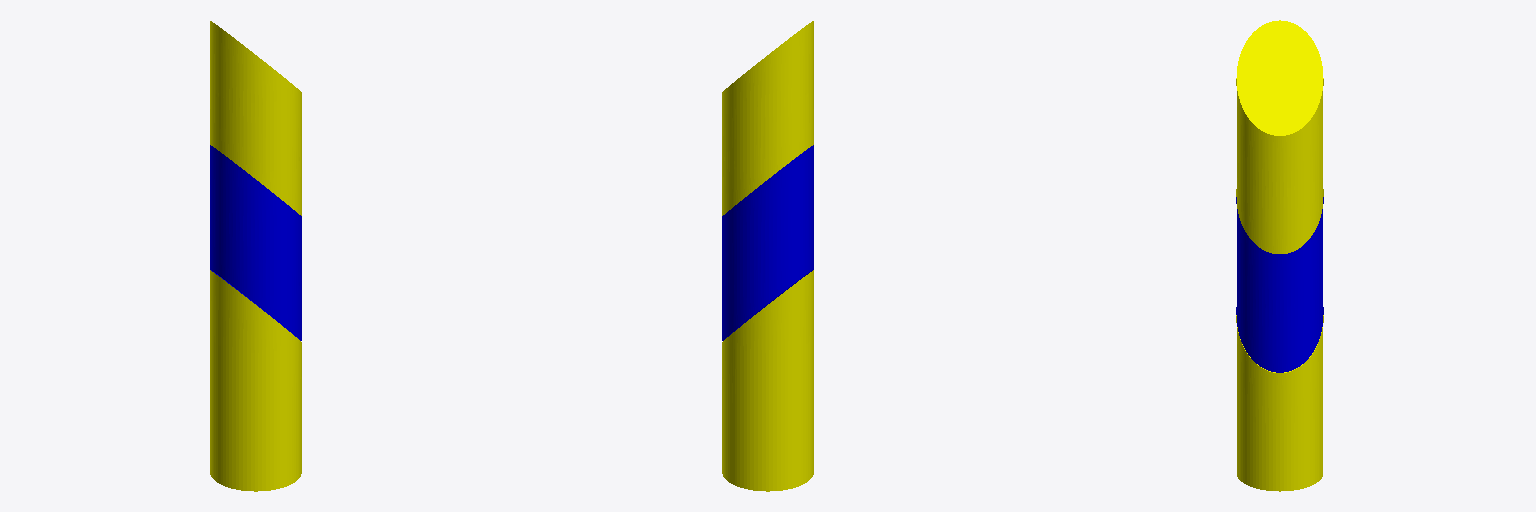
URDF robot description (homer):
<?xml version="1.0"?>
<!-- Kommentar -->

<robot name="homer">
	<link name="world"/>

  	<joint name="base_joint" type="fixed">
    		<parent link="world"/>
    		<child link="base_link"/>
    		<origin xyz="0 0 0" rpy="0 0 0" />
  	</joint>

	<link name="base_link">
   		<inertial>
      			<origin xyz="0.0 0.0 0.0" rpy="0 0 0"/>
      			<mass value="0.0"/>
      			<inertia ixx="0.0" ixy="0.0" ixz="0.0" iyy="0.0" iyz="0.0" izz="0.0"/>
    		</inertial>
		
		<visual>
			<geometry>
				<mesh filename = "package://elissa3_homer/homer_parts/Base_End.stl" scale="0.01 0.01 0.01"/> <!--scale from mm to m should be 0.001--> <!--scale="0.01 0.01 0.01"--> 
			</geometry>
				
			<!--origin - the reference frame of the visual element with respect to the reference frame of the link -->
			<!--rpy -r is roll, p-pitch and y-yaw (Eulerwinkel) -->
			<!--xyz - x,y,z -offsets -->
			<origin xyz="0 0 0" rpy="0 0 0" />
			<material name="yellow">
				<color rgba="1 1 0 1"/>
			</material>
		</visual>
		
    		<collision>
      			<origin xyz="0.0 0.0 0.0" rpy="0 0 0"/>
      			<geometry>
        			<mesh filename = "package://elissa3_homer/homer_parts/Base_End.stl" scale="0.01 0.01 0.01"/>
      			</geometry>
    		</collision>	
	</link>
	
	<joint name="joint_1" type="revolute"> <!-- maybe continous -->
		<parent link="base_link"/>
		<child link="first_link"/>
		<origin xyz="0 0 0.4" rpy="0 0.7854 0"/>
		<axis xyz="0 0 1"/>
		<limit effort="300" velocity="2.0" lower="-6" upper="6"/>
		<dynamics damping="0.1"/>
	</joint>
	
	<link name="first_link">
	
	   	<inertial>
      			<origin xyz="0.07 0 -0.069282" rpy="0 -0.7854 0" />
      			<mass value="0.0"/>
      			<inertia ixx="0.0" ixy="0.0" ixz="0.0" iyy="0.0" iyz="0.0" izz="0.0"/>
    		</inertial>
    		
		<visual>
			<geometry>
				<mesh filename = "package://elissa3_homer/homer_parts/Mid.stl" scale="0.01 0.01 0.01"/> <!--scale="0.01 0.01 0.01"--> 
			</geometry>
			<origin xyz="0.07 0 -0.069282" rpy="0 -0.7854 0" />
			<material name="blue">
				<color rgba="0 0 1 1"/>
			</material>
		</visual>
		<collision>
      			<origin xyz="0.07 0 -0.069282" rpy="0 -0.7854 0" />
      			<geometry>
        			<mesh filename = "package://elissa3_homer/homer_parts/Mid.stl" scale="0.01 0.01 0.01"/> <!--scale="0.01 0.01 0.01"-->
      			</geometry>
    		</collision>
	</link>
	
	<joint name="joint_2" type="revolute"> <!-- maybe continous -->
		<parent link="first_link"/>
		<child link="second_link"/>
		<origin xyz="-0.2121 0 0.2121" rpy="0 0 0"/>
		<axis xyz="0 0 1"/>
		<limit effort="300" velocity="2.0" lower="-6" upper="6"/>
		<dynamics damping="0.1"/>
	</joint>
	
	<link name="second_link">
	
		<inertial>
      			<origin xyz="0.07 0 -0.069282" rpy="0 -0.7854 0" />
      			<mass value="0.0"/>
      			<inertia ixx="0.0" ixy="0.0" ixz="0.0" iyy="0.0" iyz="0.0" izz="0.0"/>
    		</inertial>
		<visual>
			<geometry>
				<mesh filename = "package://elissa3_homer/homer_parts/Mid.stl" scale="0.01 0.01 0.01"/> <!--scale="0.01 0.01 0.01"--> 
			</geometry>
			<origin xyz="0.07 0 -0.069282" rpy="0 -0.7854 0" />
			<material name="yellow">
				<color rgba="1 1 0 1"/>
			</material>
		</visual>
		<collision>
      			<origin xyz="0.07 0 -0.069282" rpy="0 -0.7854 0" />
      			<geometry>
        			<mesh filename = "package://elissa3_homer/homer_parts/Mid.stl" scale="0.01 0.01 0.01"/> <!--scale="0.01 0.01 0.01"-->
      			</geometry>
    		</collision>
	</link>
	
	<transmission name="trans_1">
		<type> transmission_interface/SimpleTransmission</type>
		<joint name="joint_1">
			<hardwareInterface>hardware_interface/PositionJointInterface</hardwareInterface>
		</joint>
		<actuator name ="base_link_motor">"
			<hardwareInterface>hardware_interface/PositionJointInterface</hardwareInterface>
			<mechanicalReduction>1</mechanicalReduction>
		</actuator>
	</transmission>
	
		<transmission name="trans_2">
		<type> transmission_interface/SimpleTransmission</type>
		<joint name="joint_2">
			<hardwareInterface>hardware_interface/PositionJointInterface</hardwareInterface>
		</joint>
		<actuator name ="base_link_motor">"
			<hardwareInterface>hardware_interface/PositionJointInterface</hardwareInterface>
			<mechanicalReduction>1</mechanicalReduction>
		</actuator>
	</transmission>
		
	<gazebo>
		<plugin name="control" filename = "libgazebo_ros_control.so">
			<robotNamespace>/</robotNamespace>
		</plugin>
	</gazebo>
	
	<gazebo reference="base_link">
		<selfCollide>true</selfCollide>
	</gazebo>
	
	<gazebo reference="first_link">
		<selfCollide>true</selfCollide>
	</gazebo>
	
	<gazebo reference="second_link">
		<selfCollide>true</selfCollide>
	</gazebo>
	
	
</robot> 

--- Render facts (derived) ---
The picture shows the robot from 3 angles, left to right: view 1: azimuth 30°, elevation 25°; view 2: azimuth 150°, elevation 25°; view 3: azimuth 270°, elevation 25°; orthographic projection.
Model homer with 4 links and 3 joints (2 revolute, 1 fixed), rooted at world, posed every joint at zero.
Visible links, largest first — view 1: base_link, first_link, second_link; view 2: base_link, first_link, second_link; view 3: second_link, base_link, first_link.
Link boxes in pixels (x1,y1,x2,y2): base_link: (210,270,301,491); first_link: (210,145,301,340); second_link: (210,21,301,215); base_link: (722,270,813,491); first_link: (722,145,813,340); second_link: (722,21,813,215); second_link: (1236,20,1323,253); base_link: (1236,315,1323,491); first_link: (1236,197,1323,372).
Bounding box of the posed robot: 0.2005 × 0.2 × 1.1 m (x, y, z).
Meshes: 2 distinct files referenced, 3 mesh visuals loaded (2 binary STL).
